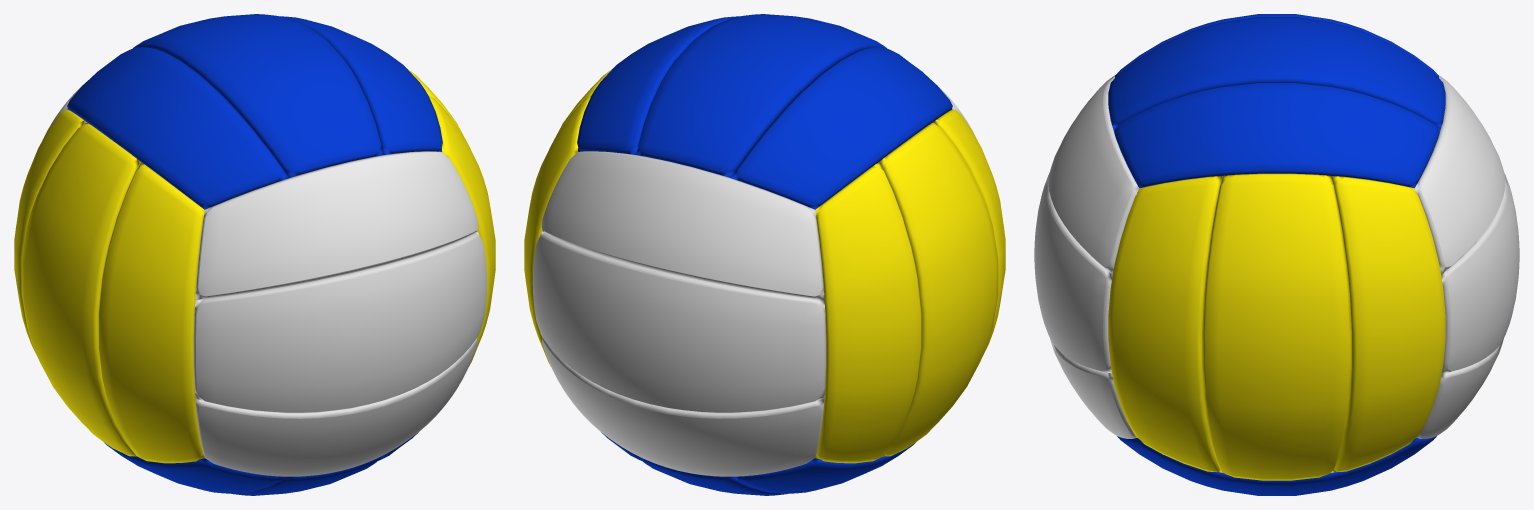
File: Volleyball.fbx
3 views of the same model, side by side, from view 1: azimuth 30°, elevation 25°; view 2: azimuth 150°, elevation 25°; view 3: azimuth 270°, elevation 25° (orthographic).
Parts seen in each view (by area): view 1: Volleyball, Volleyball.Details; view 2: Volleyball, Volleyball.Details; view 3: Volleyball, Volleyball.Details.
Part boxes in pixels (<box>): Volleyball: <box>14,14,495,495</box>; Volleyball.Details: <box>44,82,487,476</box>; Volleyball: <box>524,14,1005,495</box>; Volleyball.Details: <box>532,82,975,476</box>; Volleyball: <box>1045,14,1508,495</box>; Volleyball.Details: <box>1034,75,1519,438</box>.
Size of the model in its own units: 21.38 by 21.38 by 21.63.
